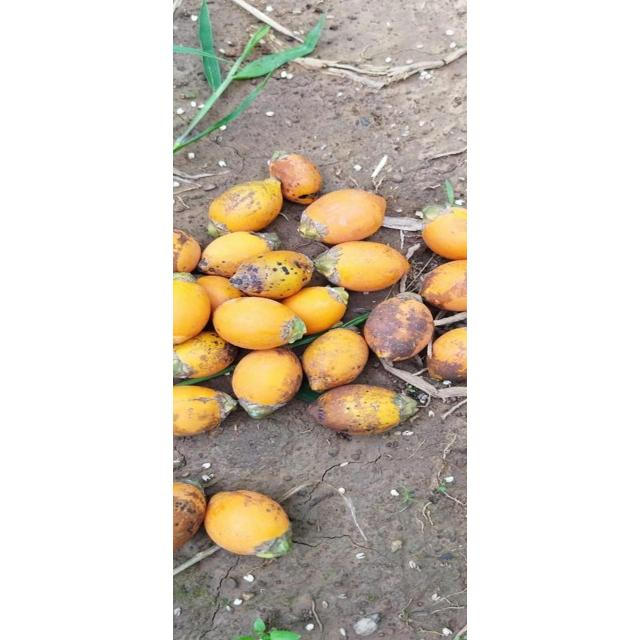good: (204, 489, 294, 556), (308, 384, 420, 434), (230, 348, 304, 417), (298, 190, 388, 244), (313, 242, 409, 292), (364, 294, 434, 362), (300, 328, 370, 392), (227, 251, 315, 299), (215, 304, 302, 352), (207, 179, 283, 233), (198, 232, 278, 278), (174, 384, 236, 438), (282, 286, 348, 336), (173, 332, 239, 381), (268, 153, 322, 204), (174, 478, 208, 558), (174, 276, 212, 346), (420, 260, 466, 314), (426, 326, 466, 384), (422, 208, 466, 260), (196, 275, 244, 313), (174, 227, 202, 275)
